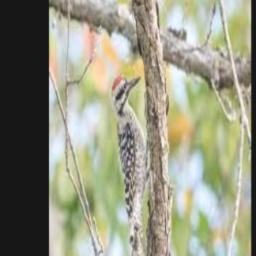Woodpecker: (111, 75, 149, 256)
